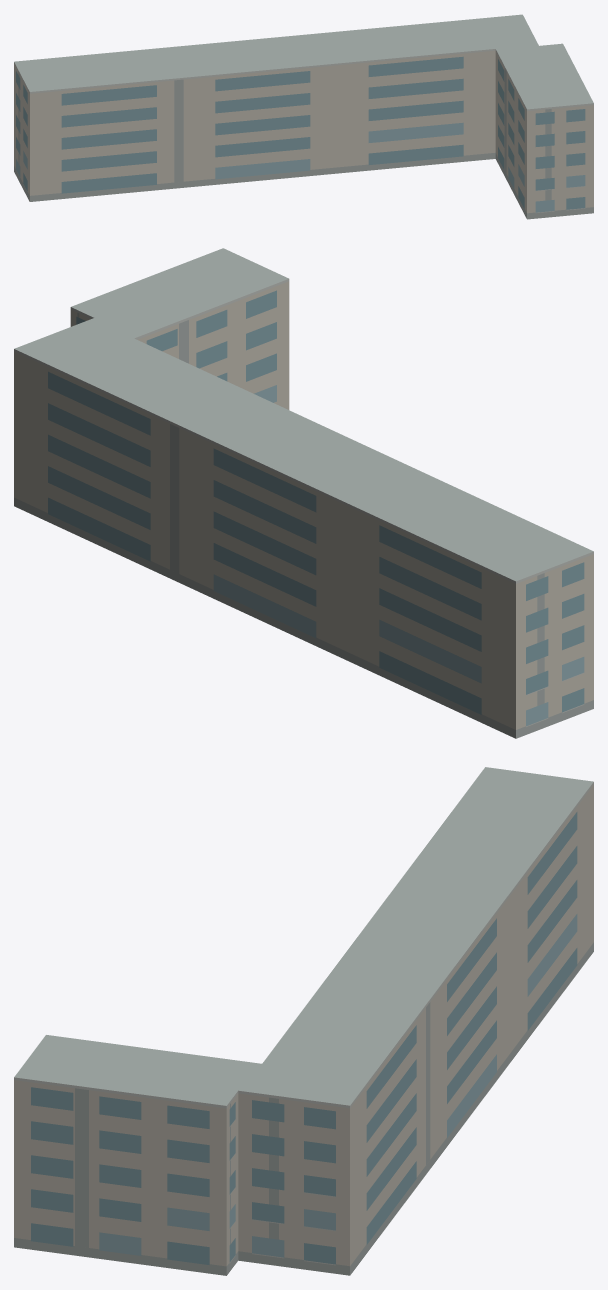
File: residential-0a5e6b33-4ae9-4bc8-8f6a-48cc9e669c22.glb
3 renders of one model, top to bottom at view 1: azimuth 30°, elevation 25°; view 2: azimuth 150°, elevation 25°; view 3: azimuth 270°, elevation 25°, orthographic. The views are drawn at different scales.
Visible parts, largest first — view 1: residential-0a5e6b33-4ae9-4bc8-8f6a-48cc9e669c22.tmp; view 2: residential-0a5e6b33-4ae9-4bc8-8f6a-48cc9e669c22.tmp; view 3: residential-0a5e6b33-4ae9-4bc8-8f6a-48cc9e669c22.tmp.
Boxes of the visible parts, left/top/right/bottom form: residential-0a5e6b33-4ae9-4bc8-8f6a-48cc9e669c22.tmp: left=14, top=14, right=593, bottom=219; residential-0a5e6b33-4ae9-4bc8-8f6a-48cc9e669c22.tmp: left=14, top=248, right=593, bottom=738; residential-0a5e6b33-4ae9-4bc8-8f6a-48cc9e669c22.tmp: left=14, top=767, right=593, bottom=1275.
Size of the model in its own units: 65.21 by 15.25 by 47.16.
